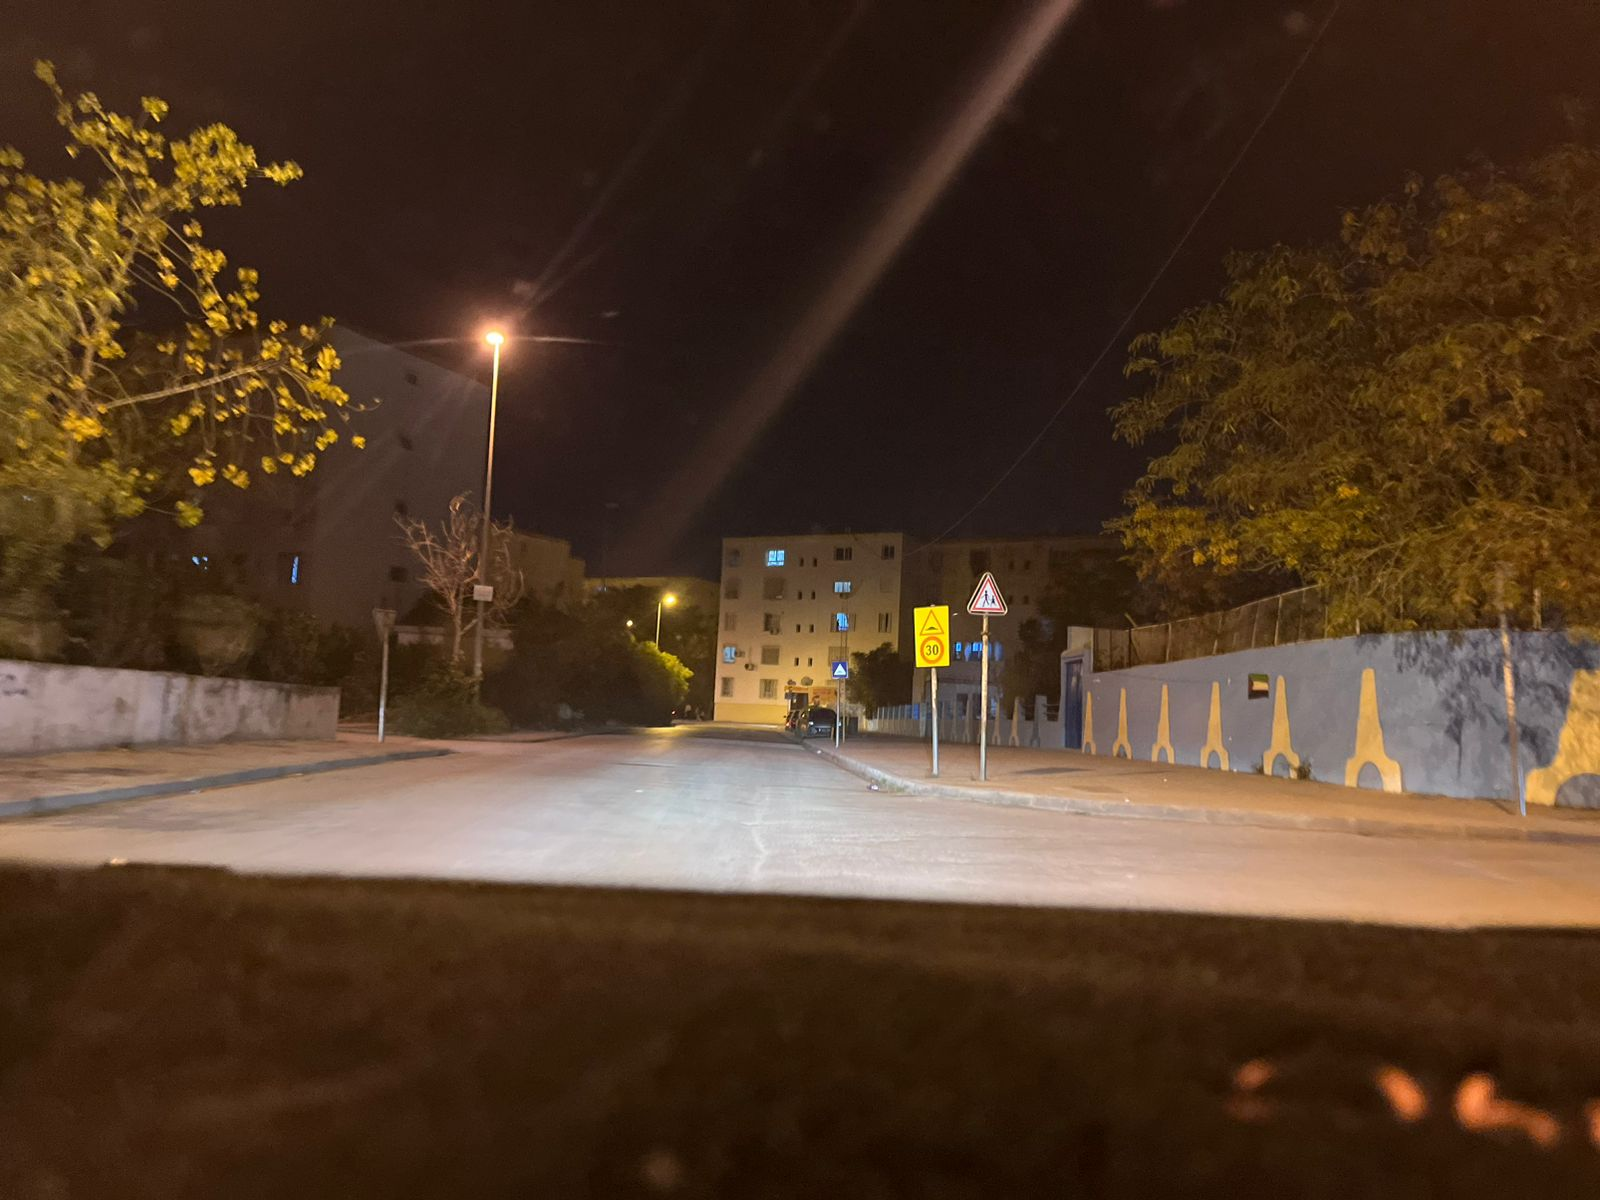SpeedLimit30: (913, 605, 950, 668)
